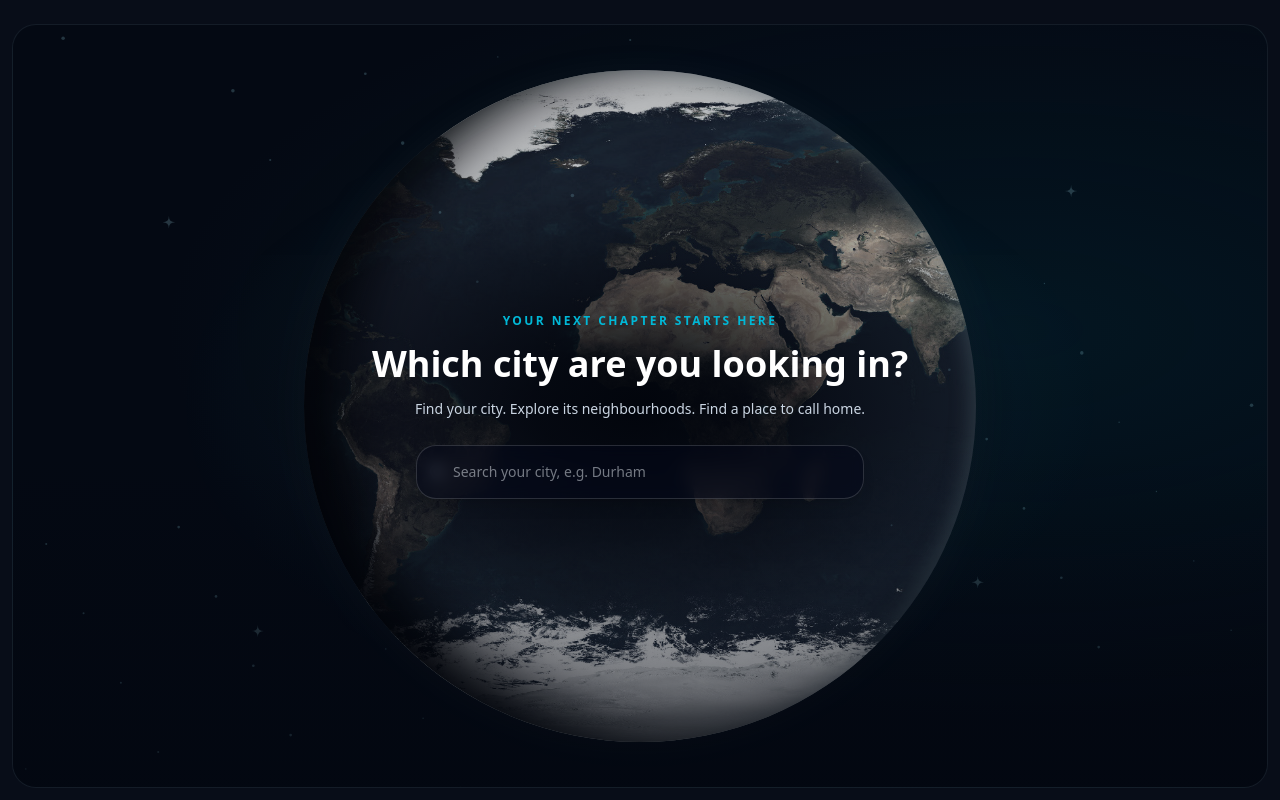
Test: shows the city suggestion only while the typed text matches, and Enter picks it
Later steps or results of the test are not shown.
Type "x" into the dropdown. click: (640, 472)
box: [416, 445, 864, 499]
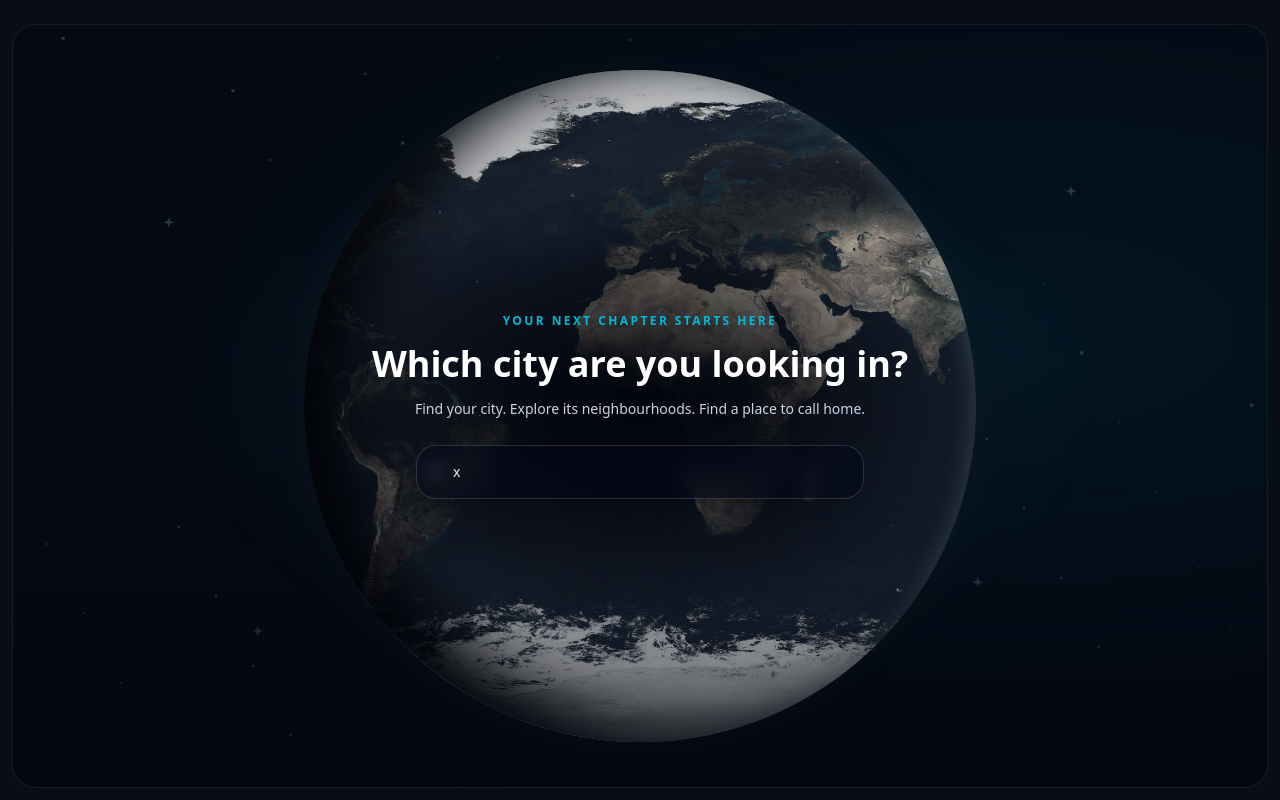
Expected: the button "Durham" is not shown
Replace the text in the dropdown with "D". click: (640, 472)
box: [416, 445, 864, 499]
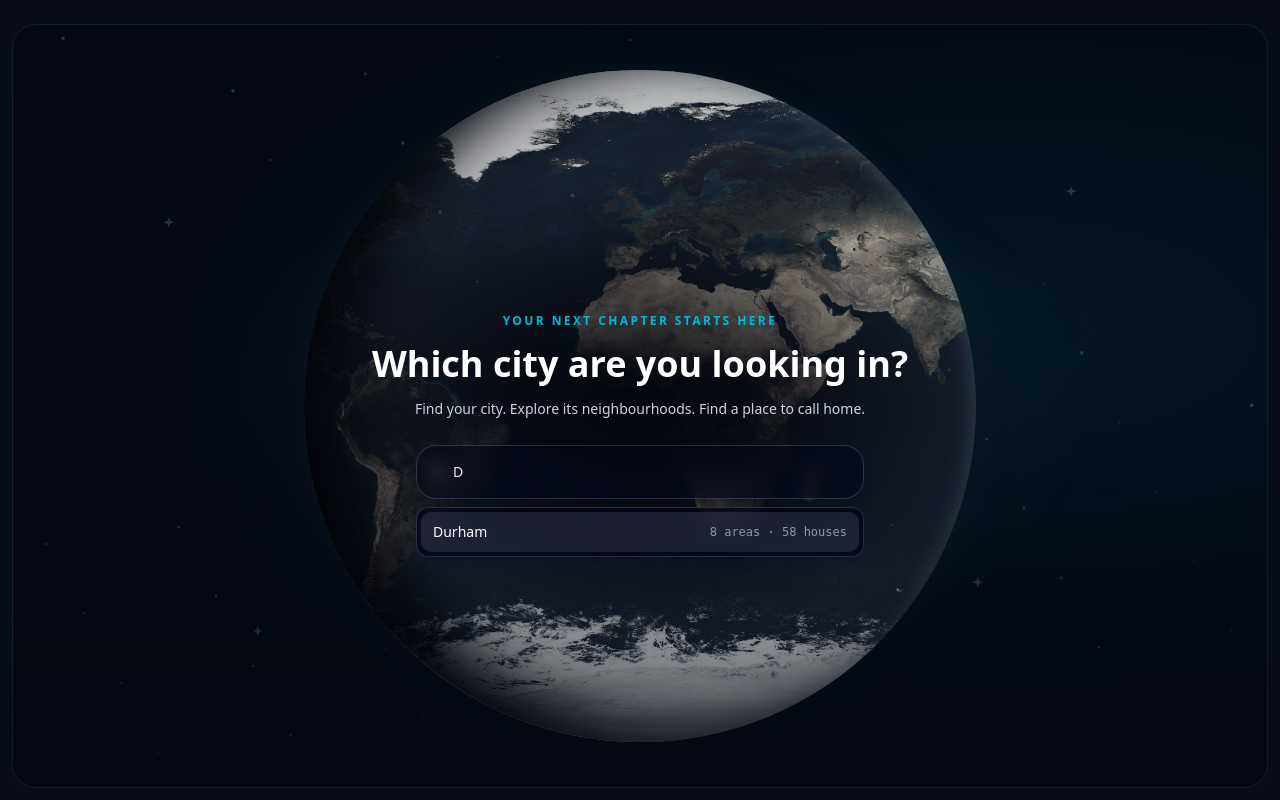
Result: the button "Durham 8 areas · 58 houses" is shown at [421, 512, 859, 552]
